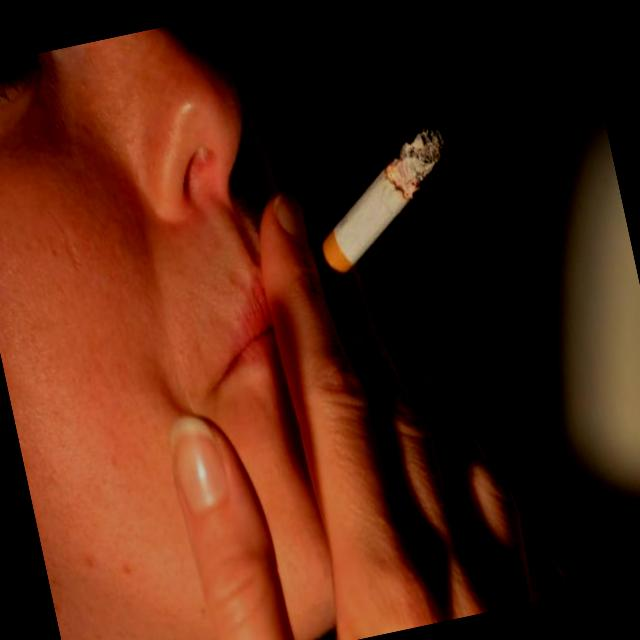smoke: (285, 114, 477, 300)
